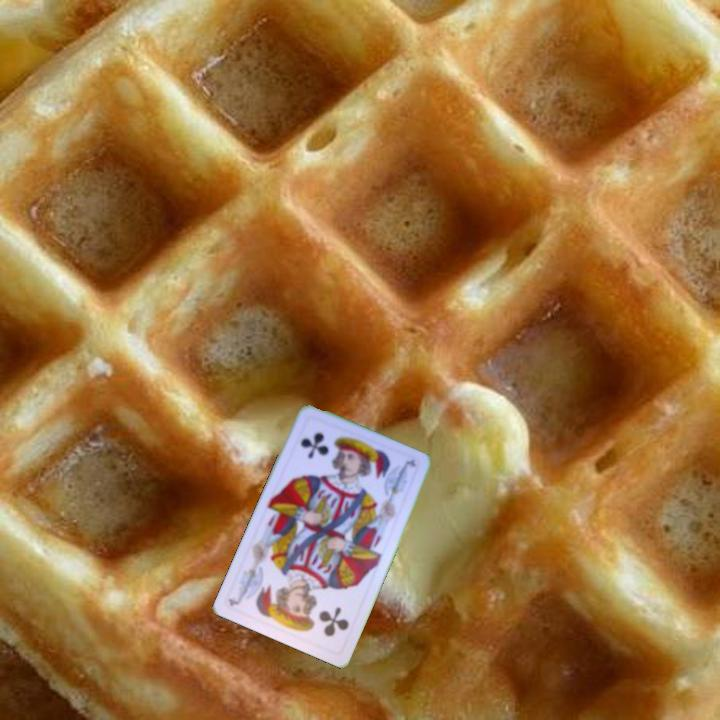c_j.png: (284, 413, 367, 491), (280, 578, 362, 656)
